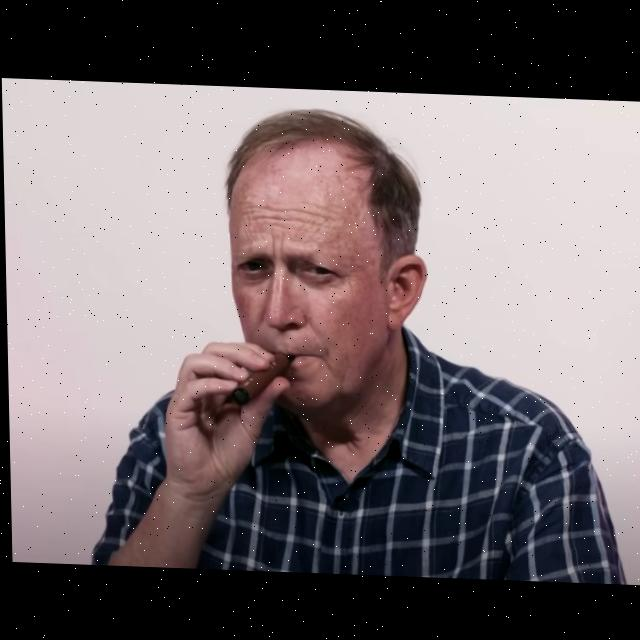vape: (229, 348, 294, 406)
